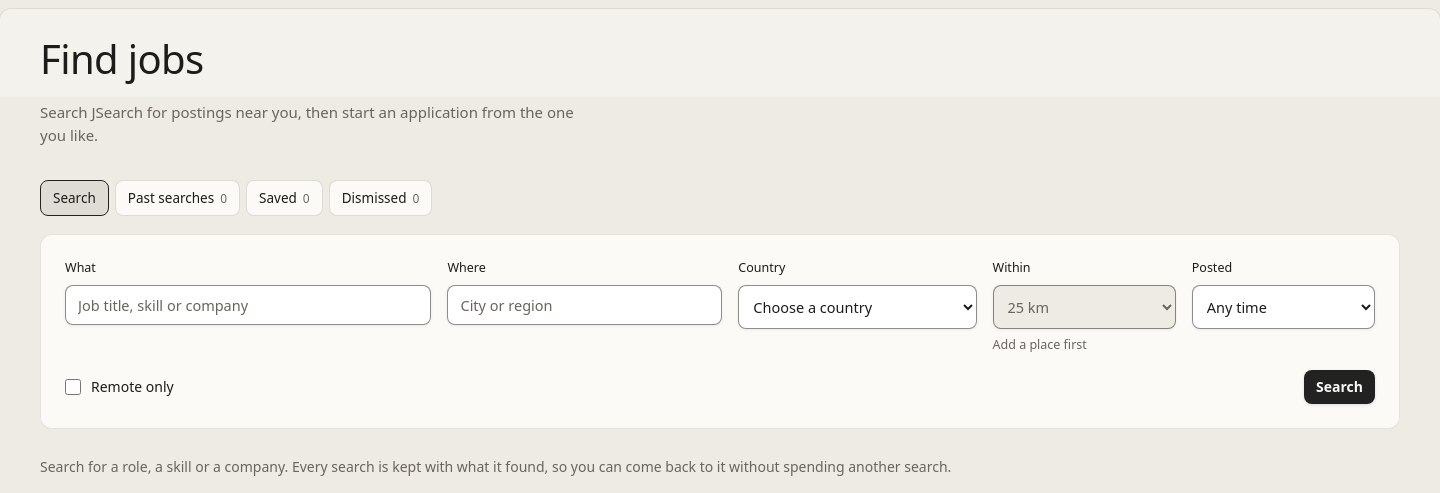
the search form › asks for keywords and a country first
Click the button "Search" at (1340, 387), box left=1304, top=370, right=1375, bottom=404
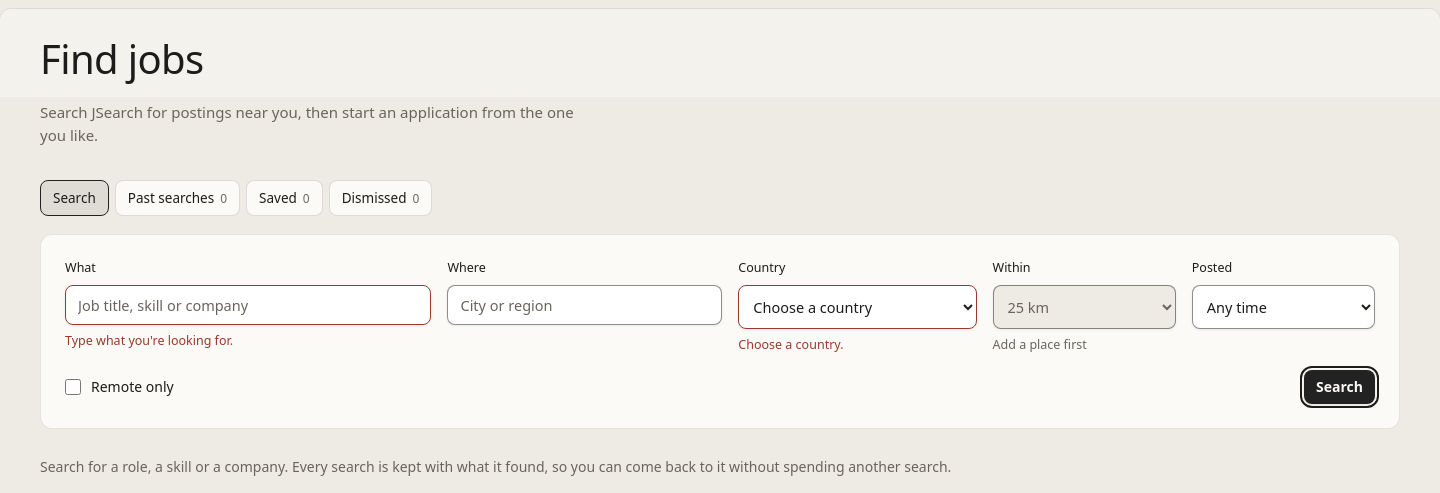
Check: the dropdown labelled "Within" is disabled, box left=992, top=284, right=1176, bottom=328
Check: the text "Type what you're looking for." is shown, box left=65, top=332, right=233, bottom=348
Check: the text "Choose a country." is shown, box left=738, top=336, right=844, bottom=352
